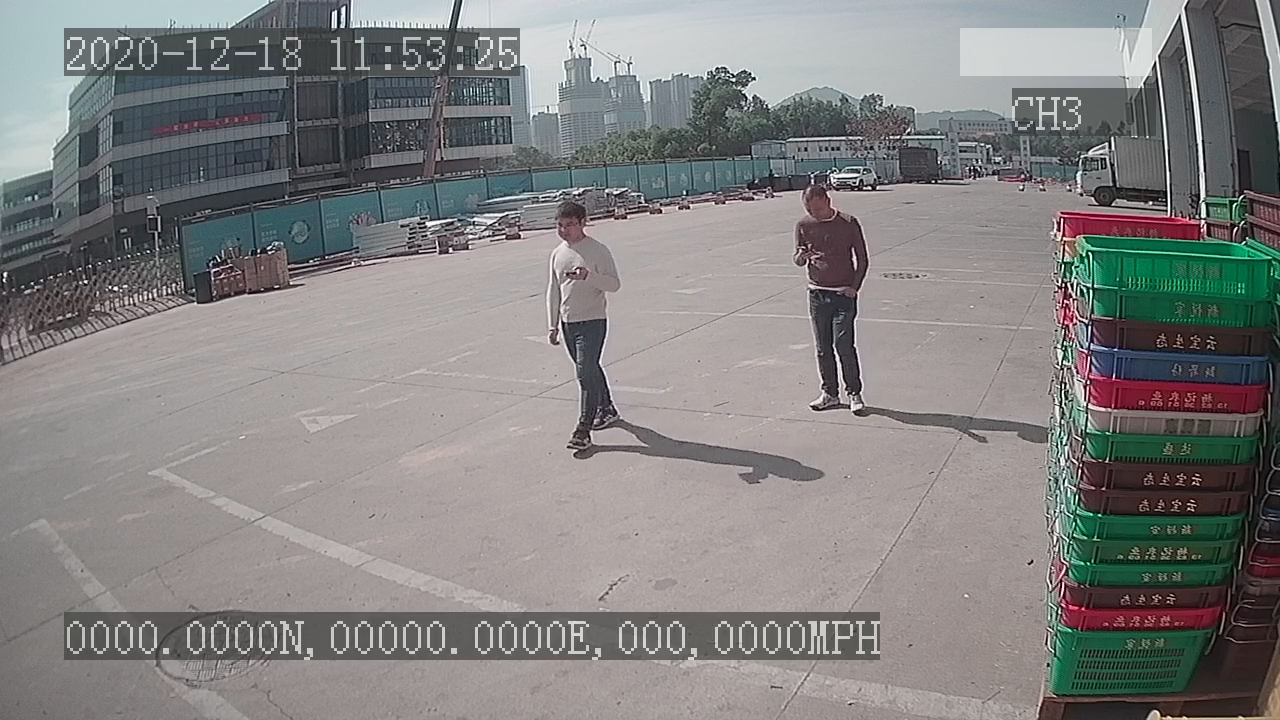person: (529, 197, 633, 463), (779, 181, 884, 422)
